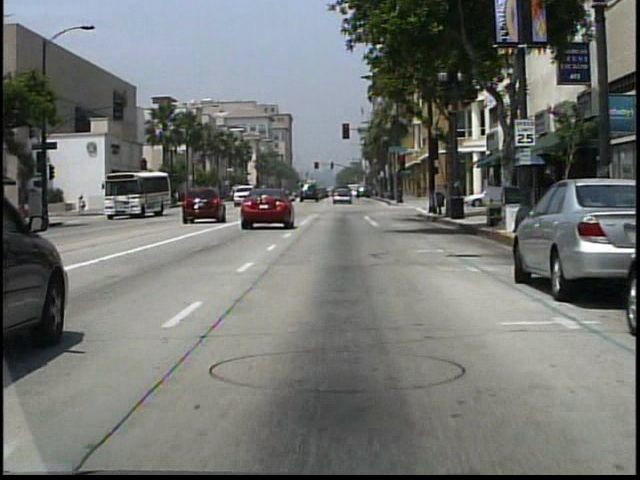person: (79, 194, 88, 215)
